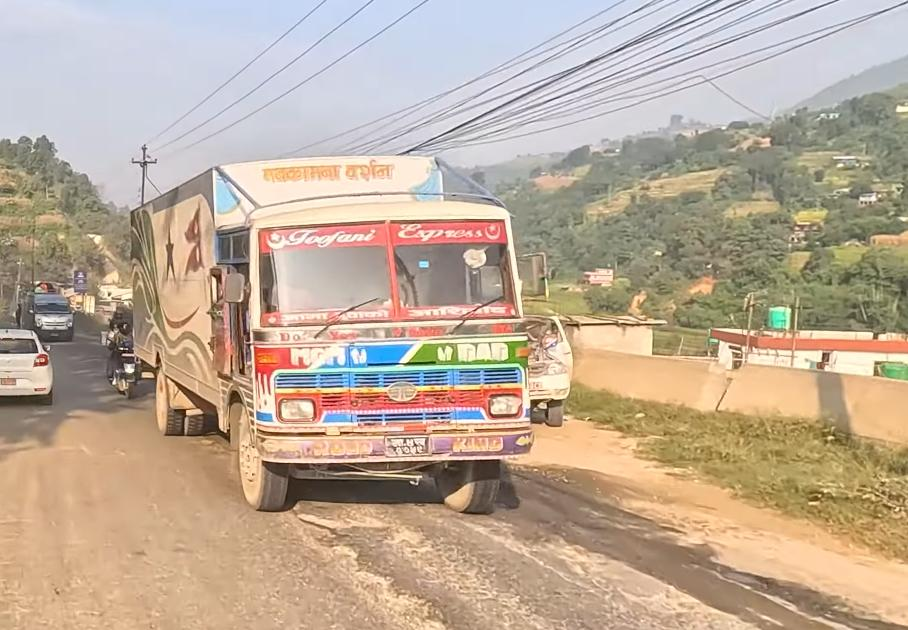car: (0, 326, 56, 408)
micro_bus: (20, 290, 79, 348)
scooter: (104, 340, 141, 400)
truck: (127, 154, 544, 514)
